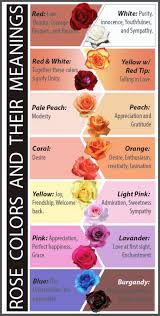lale: (61, 0, 101, 33), (66, 244, 105, 273), (77, 288, 116, 316), (66, 89, 101, 118), (70, 66, 103, 96), (79, 21, 114, 49), (82, 134, 114, 163), (81, 199, 116, 225), (82, 45, 116, 71), (72, 266, 104, 293), (82, 224, 115, 250), (69, 159, 106, 182), (83, 110, 114, 137), (72, 182, 101, 208)
